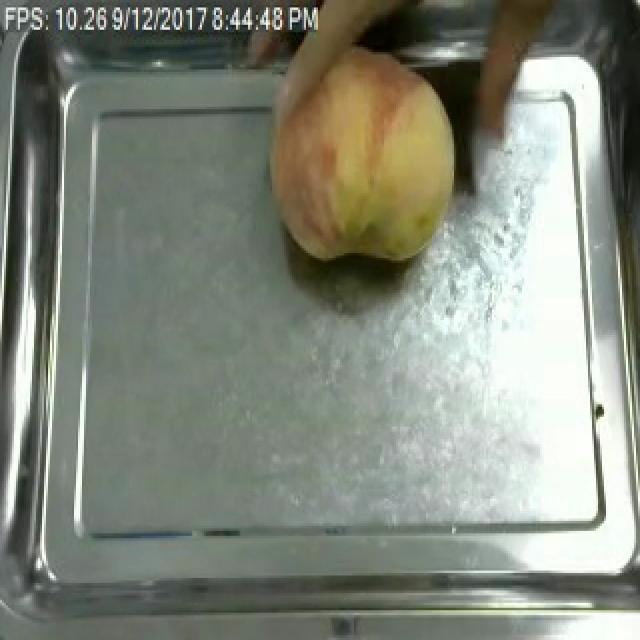Fruit: (250, 8, 474, 280)
